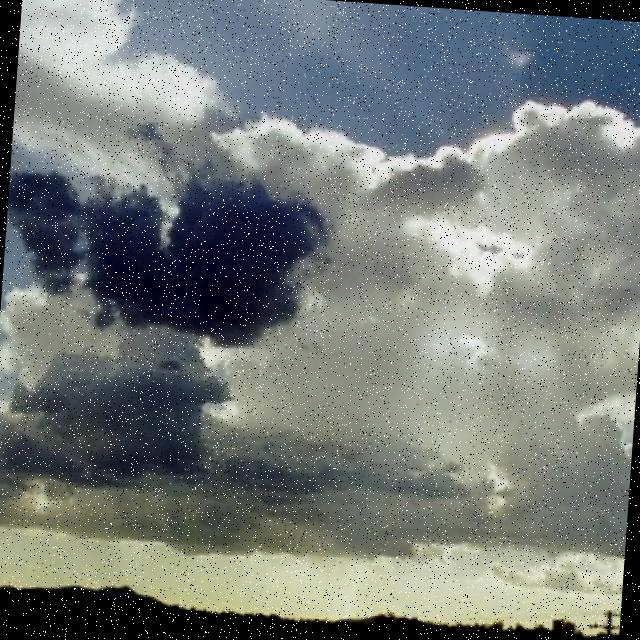Cu: (1, 40, 640, 514)
